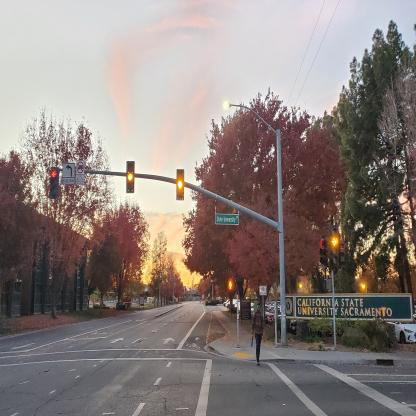left-red: (50, 167, 59, 197)
yellow: (127, 161, 134, 192), (178, 170, 184, 199)
